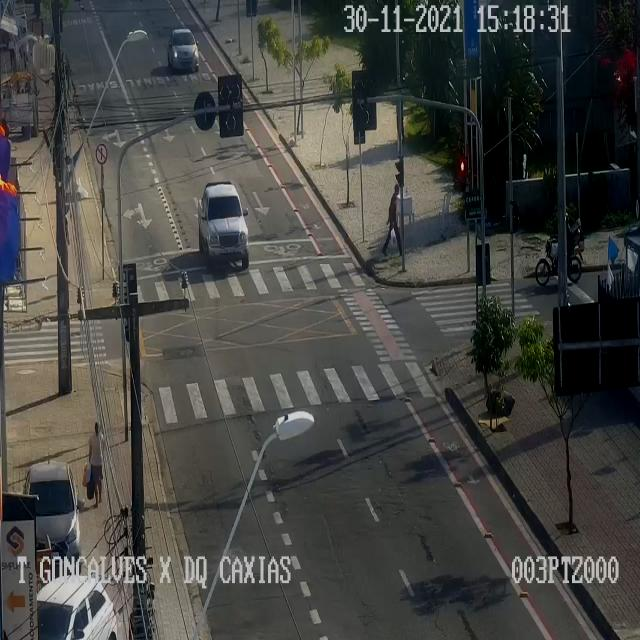Car: (23, 462, 81, 572), (36, 575, 116, 639), (198, 184, 248, 266), (168, 28, 198, 70)
Motorcycle: (535, 212, 581, 286)
